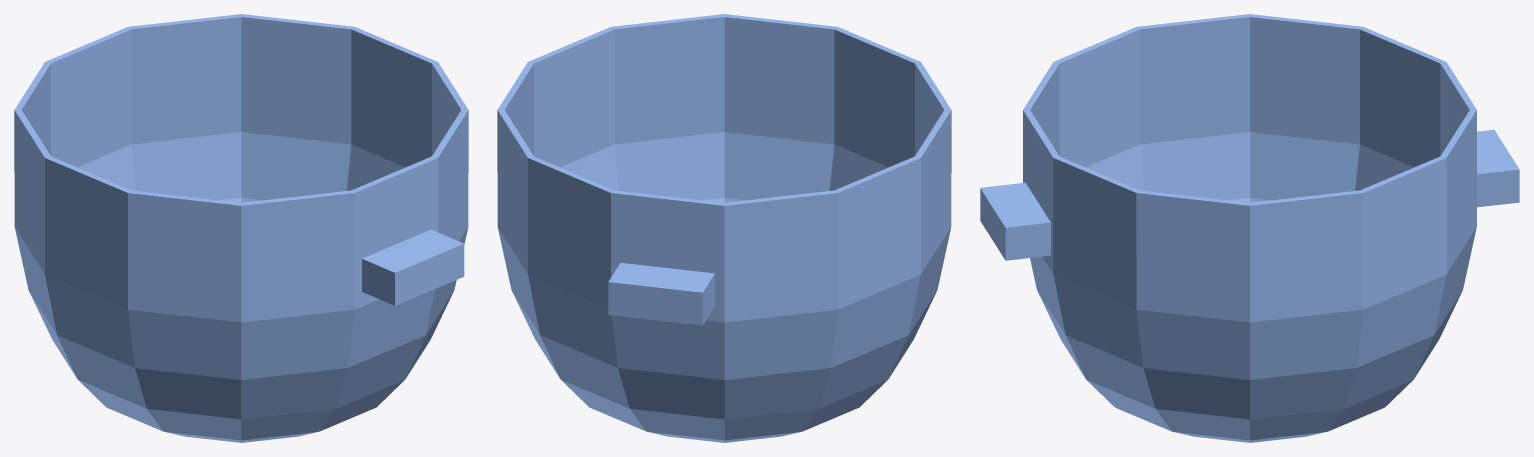
Rendered from Cocina_Olla_12.fbx.
The picture shows the model from 3 angles, left to right: view 1: azimuth 30°, elevation 25°; view 2: azimuth 150°, elevation 25°; view 3: azimuth 270°, elevation 25°; orthographic projection.
Parts seen in each view (by area): view 1: olla; view 2: olla; view 3: olla.
Boxes of the visible parts, left/top/right/bottom form: olla: left=14, top=14, right=468, bottom=442; olla: left=497, top=14, right=951, bottom=442; olla: left=980, top=14, right=1519, bottom=442.
Size of the model in its own units: 36.25 by 25.13 by 43.08.
1 material, 1 textured.
